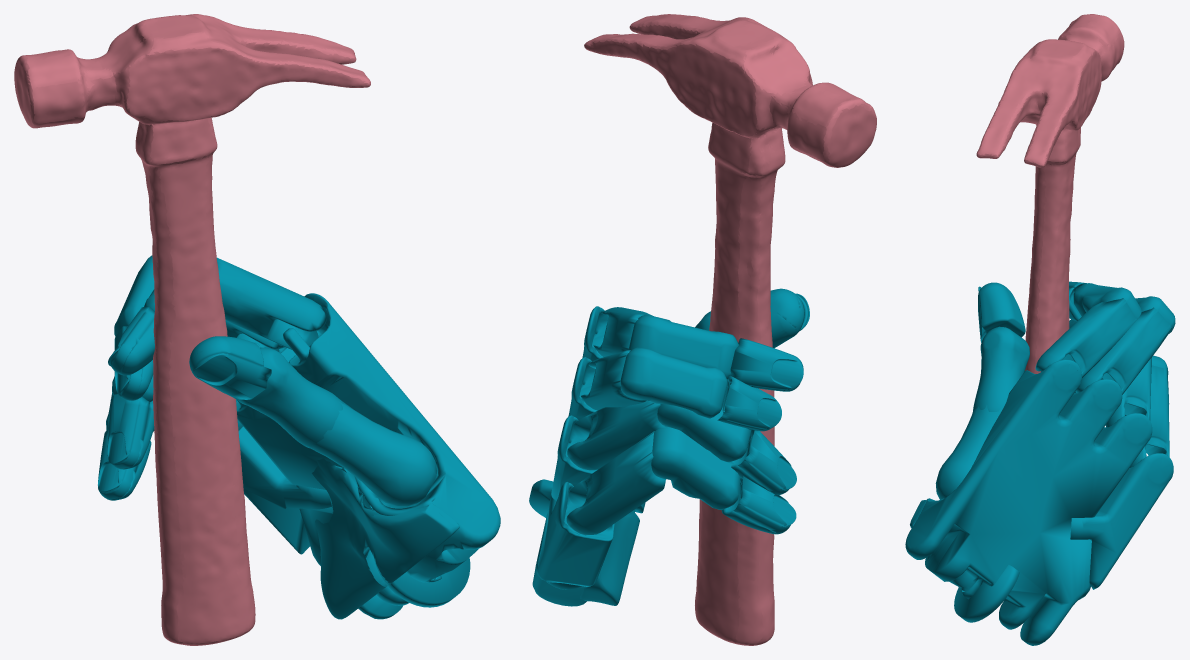
3 views of the same model, side by side, from view 1: azimuth 30°, elevation 25°; view 2: azimuth 150°, elevation 25°; view 3: azimuth 270°, elevation 25° (orthographic). The views are drawn at different scales.
Visible parts, largest first — view 1: world; view 2: world; view 3: world.
Boxes of the visible parts, box(x1,y1,x2,y2) form: world: box(14, 14, 500, 645); world: box(529, 14, 876, 645); world: box(905, 14, 1175, 645).
Bounding box in the file's own units: 0.1655 × 0.256 × 0.1212.
